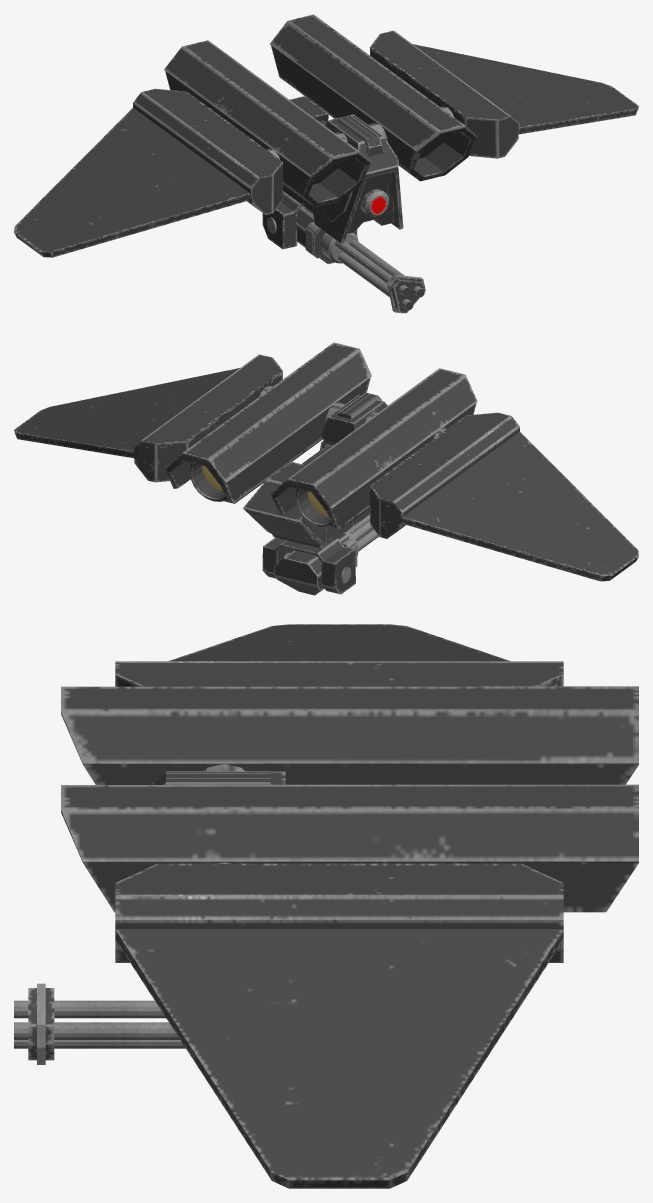
Rendered from Drone.fbx.
The picture shows the model from 3 angles, top to bottom: view 1: azimuth 30°, elevation 25°; view 2: azimuth 150°, elevation 25°; view 3: azimuth 270°, elevation 25°; orthographic projection. The views are drawn at different scales.
Visible parts, largest first — view 1: drone, minigun_barrel, minigun_swivel, minigun_base; view 2: drone, minigun_swivel, minigun_base, minigun_barrel; view 3: drone, minigun_barrel.
Boxes of the visible parts, <box> form: drone: <box>14,14,638,257</box>; minigun_barrel: <box>320,232,425,313</box>; minigun_swivel: <box>262,191,303,249</box>; minigun_base: <box>297,206,357,264</box>; drone: <box>14,342,638,583</box>; minigun_swivel: <box>262,537,355,594</box>; minigun_base: <box>274,534,357,595</box>; minigun_barrel: <box>344,515,378,555</box>; drone: <box>61,624,638,1188</box>; minigun_barrel: <box>14,983,185,1064</box>.
Bounding box in the file's own units: 396 × 106 × 188.
1 material, 1 textured.
